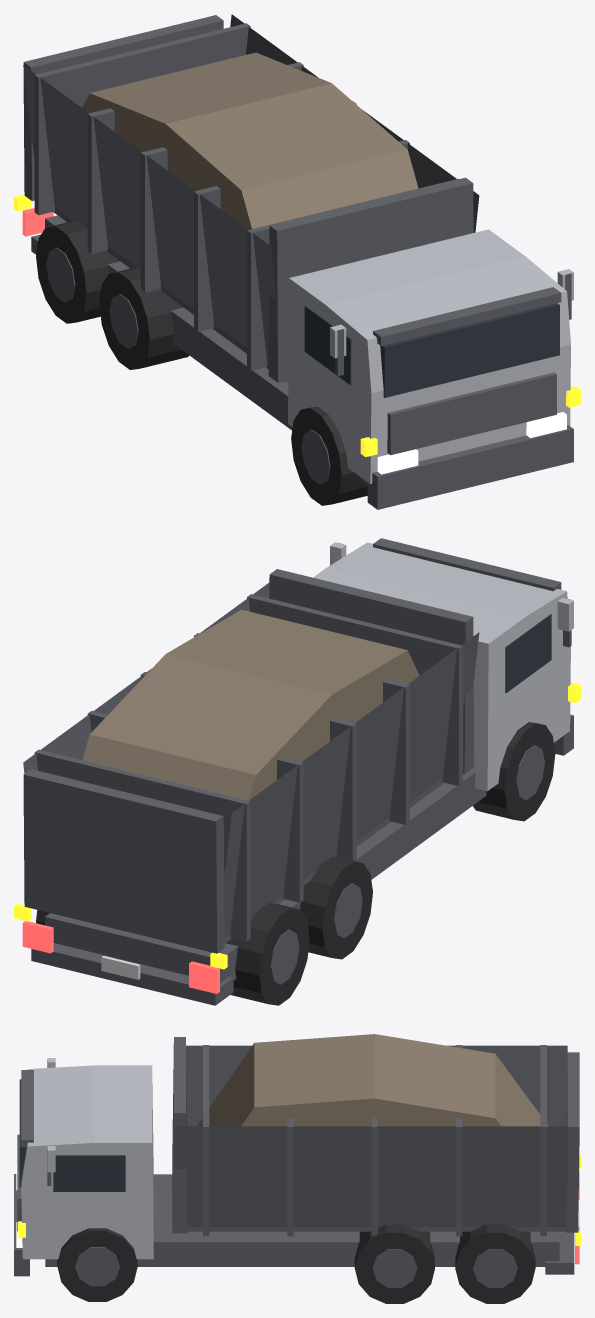
File: traffic_dump.glb
3 renders of one model, top to bottom at view 1: azimuth 30°, elevation 25°; view 2: azimuth 150°, elevation 25°; view 3: azimuth 270°, elevation 25°, orthographic. The views are drawn at different scales.
Visible parts, largest first — view 1: TrafficDump; view 2: TrafficDump; view 3: TrafficDump.
Part boxes in pixels (bbox=[...]): TrafficDump: bbox=[22, 14, 573, 509]; TrafficDump: bbox=[22, 538, 573, 1005]; TrafficDump: bbox=[14, 1034, 579, 1303].
Size of the model in its own units: 2.73 by 2.67 by 7.06.
